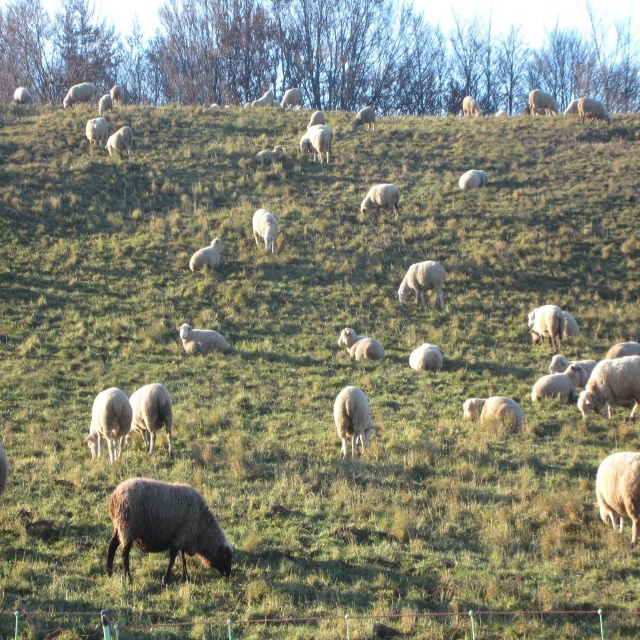Sheep: (0, 82, 640, 585)
